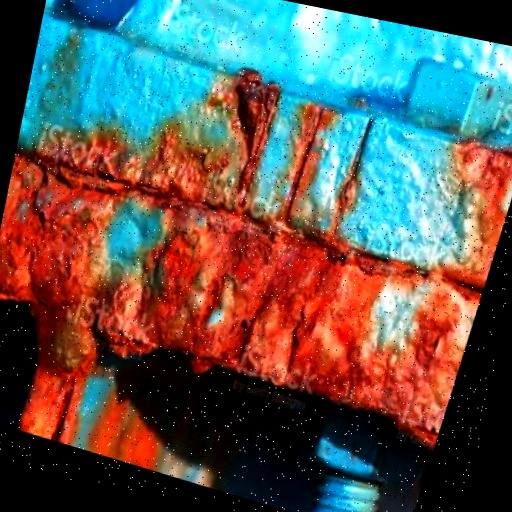corrosion: (0, 141, 496, 451), (424, 120, 512, 258)
crack: (321, 108, 391, 253), (275, 94, 349, 230), (43, 368, 91, 447)
